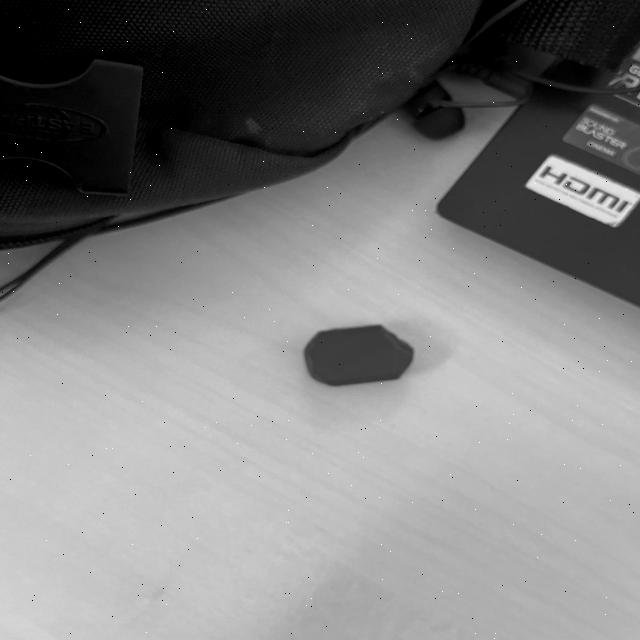eraser: (297, 317, 438, 394)
